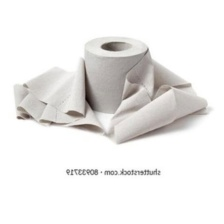tissue: (8, 29, 220, 150)
